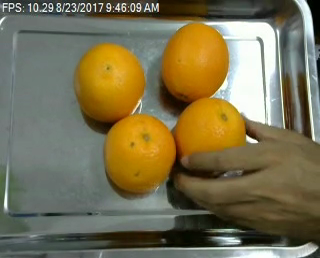Orange: (102, 114, 176, 194), (75, 42, 145, 121), (161, 21, 229, 101)
